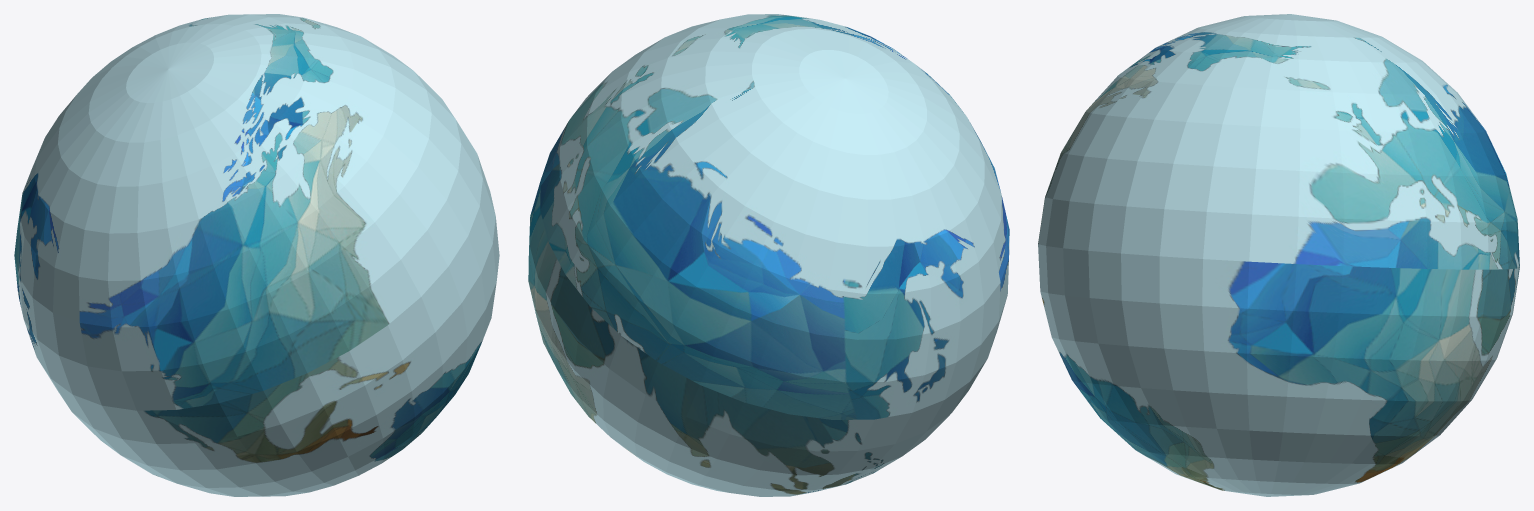
Rendered from earthGlobe.fbx.
3 renders of one model, left to right at view 1: azimuth 30°, elevation 25°; view 2: azimuth 150°, elevation 25°; view 3: azimuth 270°, elevation 25°, orthographic.
Parts seen in each view (by area): view 1: Sphere; view 2: Sphere; view 3: Sphere.
Boxes of the visible parts, box(x1,y1,x2,y2) form: Sphere: box(14, 14, 499, 496); Sphere: box(528, 14, 1009, 496); Sphere: box(1038, 14, 1519, 496).
Bounding box in the file's own units: 159 × 159 × 158.
